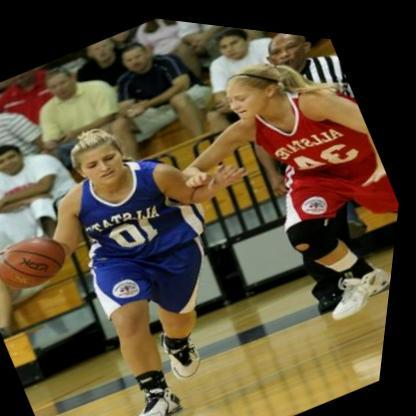basketball: (0, 216, 85, 305)
